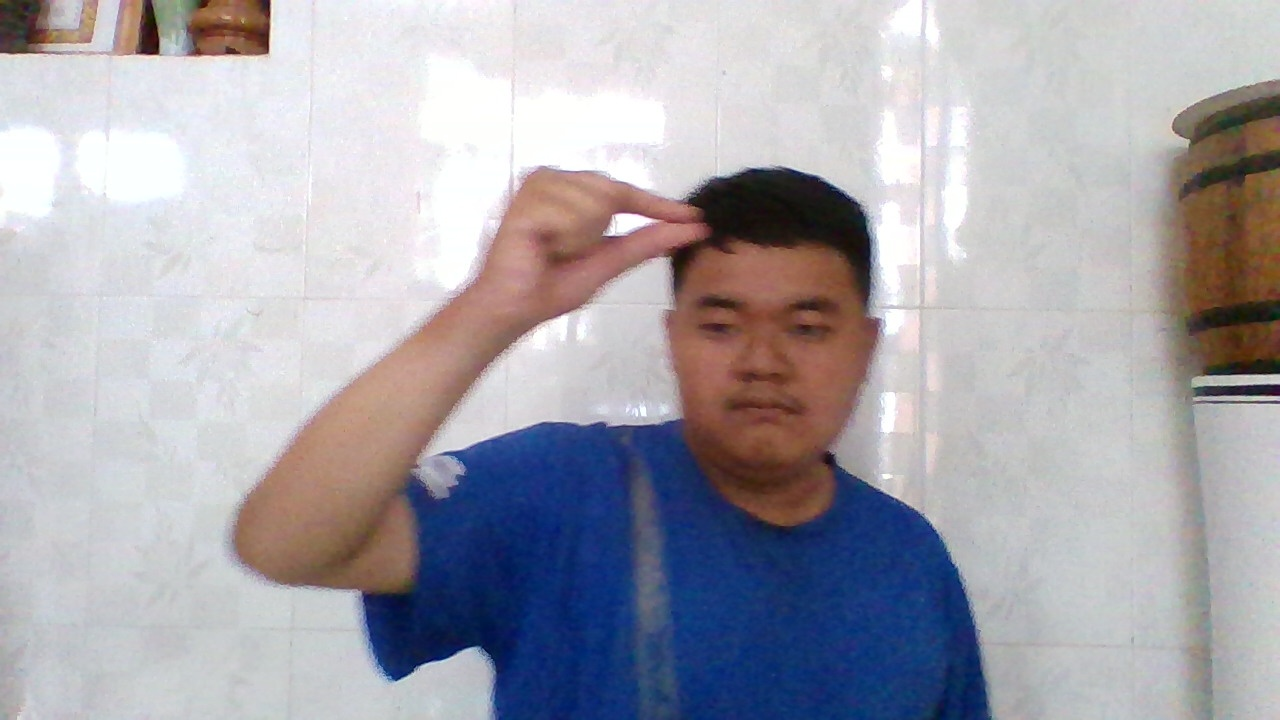S: (504, 158, 704, 328)
